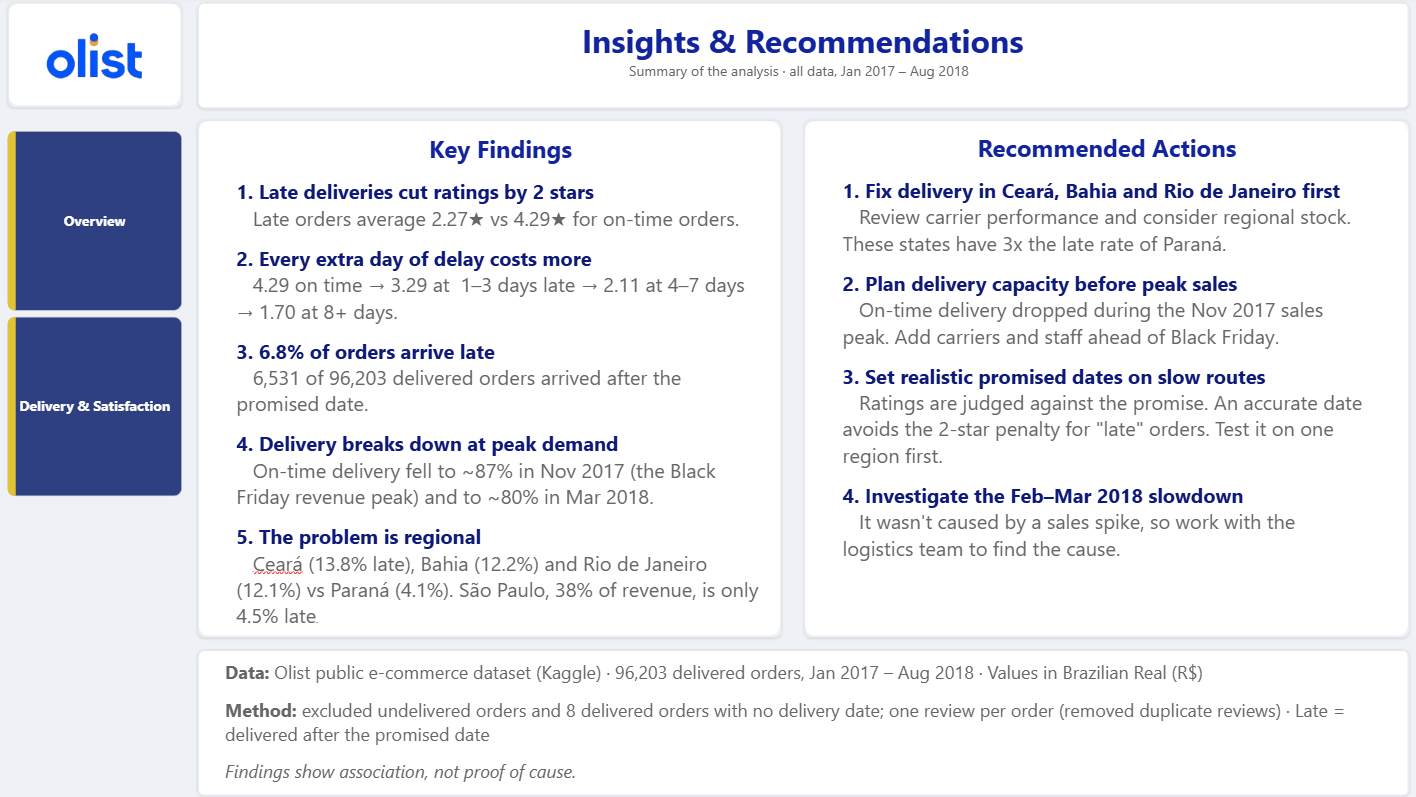

This screenshot's page, from the dashboard's own definition file:
{"tool":"powerbi","page":{"name":"Insights & Recommendations","canvas":[1920,1080],"ordinal":2},"visuals":[{"type":"shape","box":[270.5,8.3,1618.9,142.5],"z":0},{"type":"textbox","box":[506.7,30.8,1146.1,117.7],"z":1000},{"type":"shape","box":[16.5,8.3,233.3,140.4],"z":2000},{"type":"image","box":[20.6,31,226.4,94.7],"z":3000},{"type":"shape","box":[270.5,165.2,780.6,691.8],"z":4000},{"type":"shape","box":[1080,165.2,809.5,691.8],"z":5000},{"type":"textbox","box":[322.1,182.8,705.8,738.3],"z":6000},{"type":"textbox","box":[1131.6,179.7,706.2,759.9],"z":7000},{"type":"shape","box":[270.5,873.5,1618.9,196.2],"z":8000},{"type":"textbox","box":[307.7,885.9,1559.1,183.8],"z":9000},{"type":"pageNavigator","box":[16.5,179.7,233.3,489.4],"z":11000}]}

Visuals, with their boxes in screenshot pixels (x1, y1, x2, y2), scaled from the page's 1920x1080 canvas onto the 1416x797 screenshot:
shape: detection(199, 6, 1393, 111)
textbox: detection(374, 23, 1219, 110)
shape: detection(12, 6, 184, 110)
image: detection(15, 23, 182, 93)
shape: detection(199, 122, 775, 632)
shape: detection(796, 122, 1394, 632)
textbox: detection(238, 135, 758, 680)
textbox: detection(835, 133, 1355, 693)
shape: detection(199, 645, 1393, 789)
textbox: detection(227, 654, 1377, 789)
pageNavigator: detection(12, 133, 184, 494)
